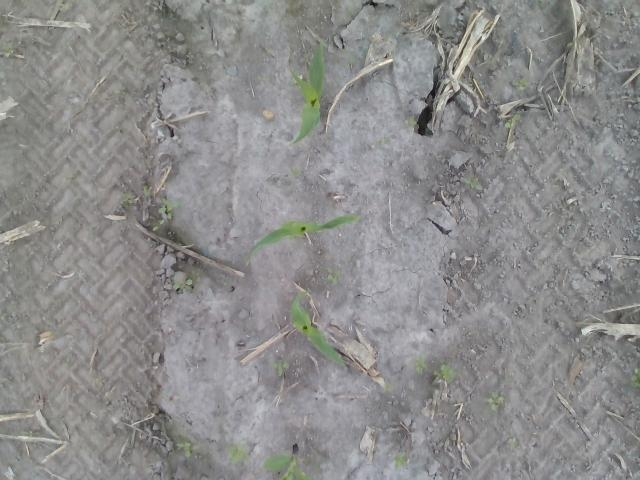Maize: (246, 213, 361, 262), (290, 290, 347, 368), (286, 41, 326, 146), (262, 442, 310, 480)
Weeds: (158, 198, 180, 220), (433, 363, 456, 383), (228, 444, 250, 464), (408, 354, 428, 374), (483, 392, 504, 410), (174, 275, 193, 294), (176, 442, 198, 458), (326, 266, 342, 284), (393, 451, 408, 470), (272, 360, 288, 376), (629, 368, 640, 390), (505, 114, 520, 130), (120, 192, 135, 208), (464, 177, 482, 190), (512, 78, 528, 91), (404, 114, 416, 130), (0, 42, 13, 56), (374, 136, 390, 147), (152, 220, 164, 230), (561, 40, 575, 48), (290, 166, 301, 176), (114, 84, 125, 94), (508, 438, 516, 450), (384, 383, 394, 392), (504, 373, 514, 382), (142, 185, 150, 196), (20, 430, 33, 436), (59, 3, 70, 10), (0, 307, 4, 321), (0, 69, 6, 78), (348, 59, 355, 66), (258, 76, 266, 82)
